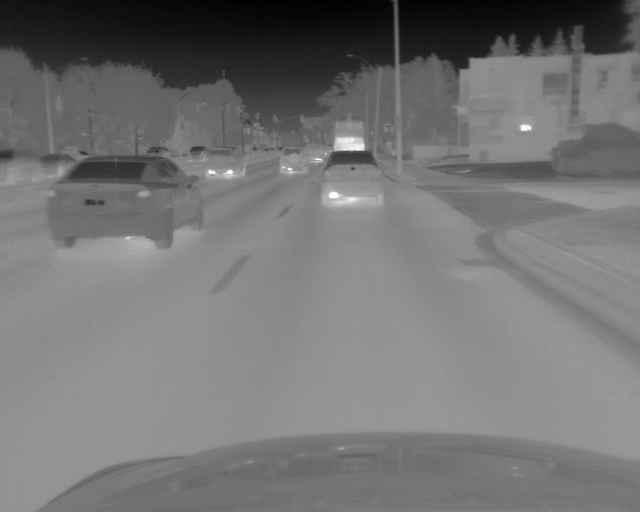car: (46, 156, 207, 252), (319, 150, 386, 207), (204, 145, 247, 181), (40, 148, 83, 177), (332, 120, 365, 152), (278, 145, 309, 174), (306, 141, 326, 166), (144, 145, 172, 160), (187, 146, 208, 161)
